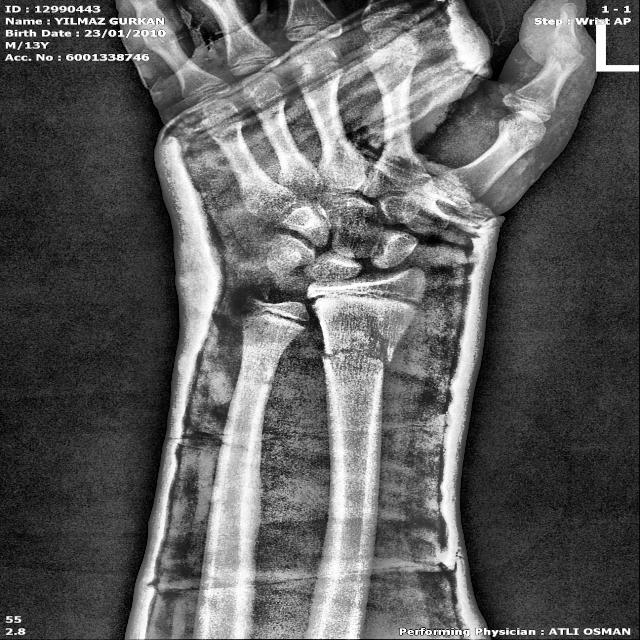Fracture: (310, 338, 412, 376)
